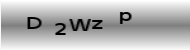2: (53, 22, 67, 36)
D: (26, 17, 42, 30)
W: (68, 18, 91, 32)
p: (118, 11, 133, 25)
z: (90, 19, 104, 30)
